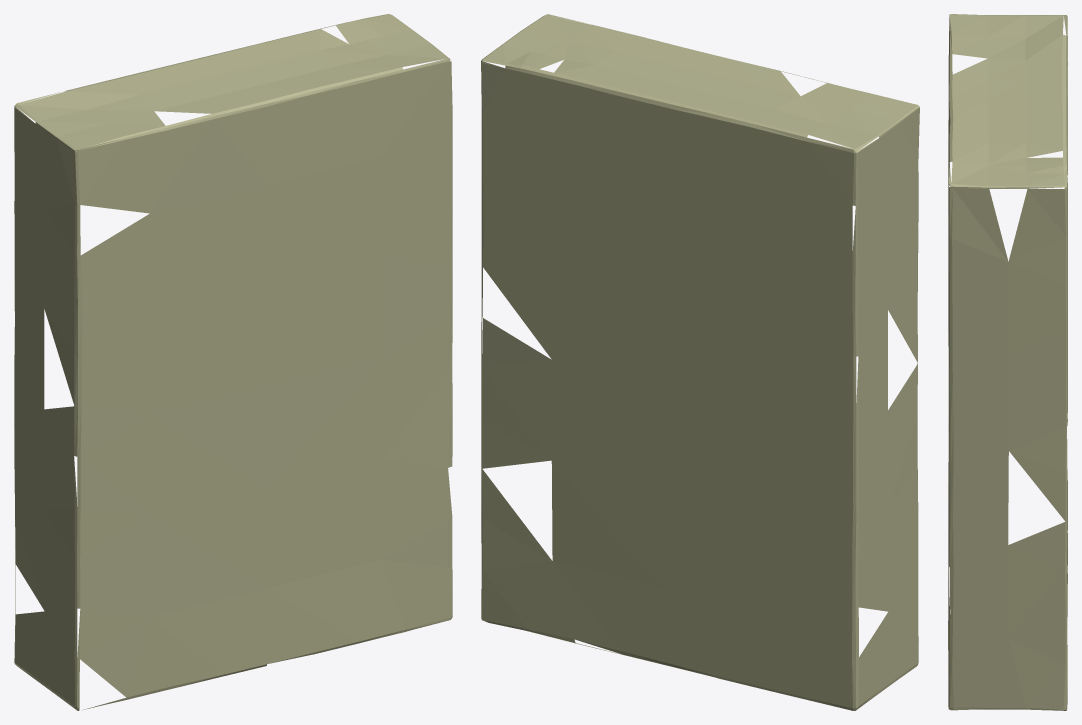
File: pack_paper_office_mint_a01.glb
3 renders of one model, left to right at view 1: azimuth 30°, elevation 25°; view 2: azimuth 150°, elevation 25°; view 3: azimuth 270°, elevation 25°, orthographic. The views are drawn at different scales.
Parts seen in each view (by area): view 1: geometry_0; view 2: geometry_0; view 3: geometry_0.
Part boxes in pixels (<box>): geometry_0: <box>14,14,452,710</box>; geometry_0: <box>481,14,919,710</box>; geometry_0: <box>948,14,1067,710</box>.
Size of the model in its own units: 0.3361 by 0.48 by 0.0983.
